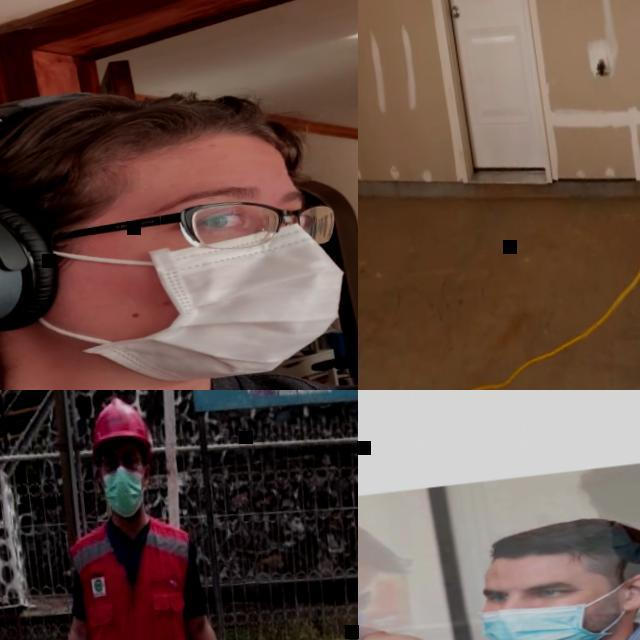helmet: (84, 393, 154, 450)
vest: (65, 507, 208, 640)
